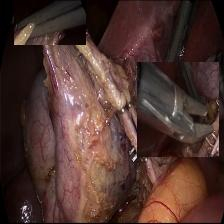Clipper: (137, 63, 219, 157)
Grasper: (152, 10, 193, 101), (14, 0, 86, 45)
